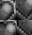heart: (0, 0, 16, 20), (16, 0, 32, 20), (16, 20, 32, 35)
